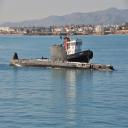submarine: (10, 45, 116, 72)
